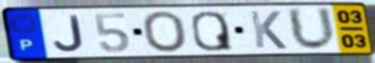5: (91, 12, 132, 54)
J: (52, 14, 87, 53)
K: (248, 9, 290, 51)
O: (140, 10, 189, 54)
Q: (189, 9, 236, 52)
U: (284, 6, 340, 53)
